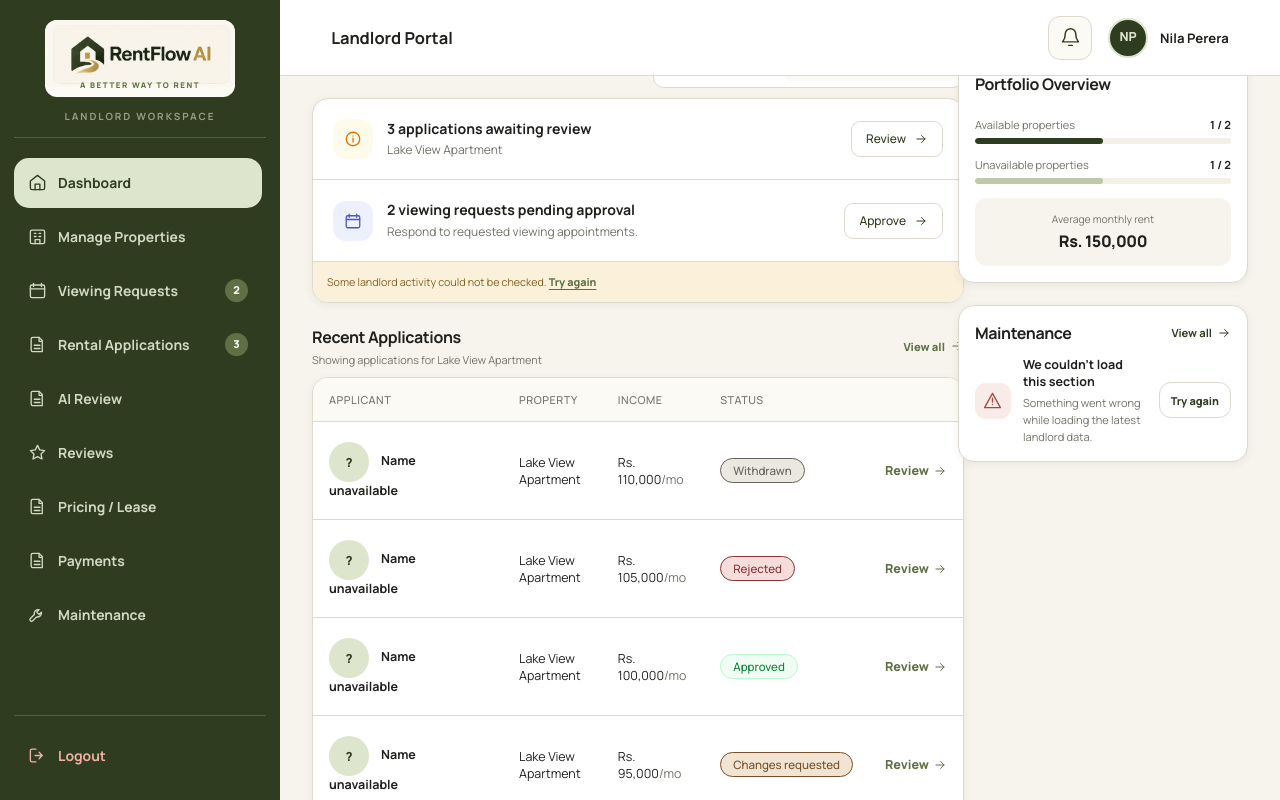
landlord dashboard redesign › retries Maintenance independently after a service failure
(page scrolled)
Expected: the message that starts with "We couldn't load this section" is shown, [975,356,1231,445]
Click the button "Try again" below "We couldn't load this section".
click(1195, 400)  # box [1159,382,1231,418]
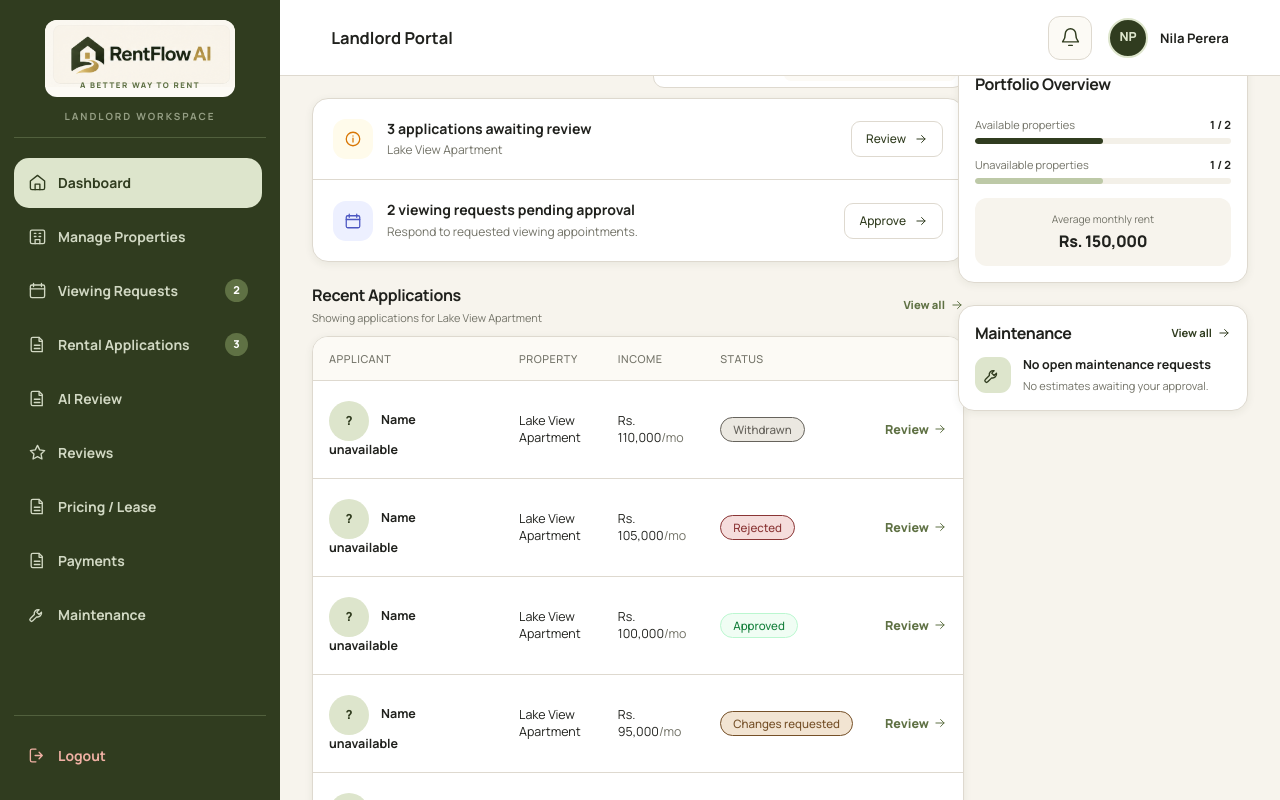
Now the heading "No open maintenance requests" is shown, box [1023,356,1231,373]
